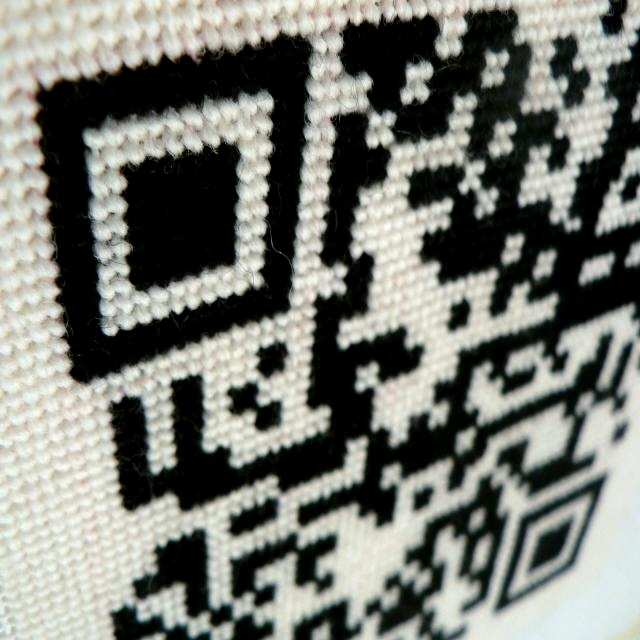qr-code: (35, 0, 640, 638)
